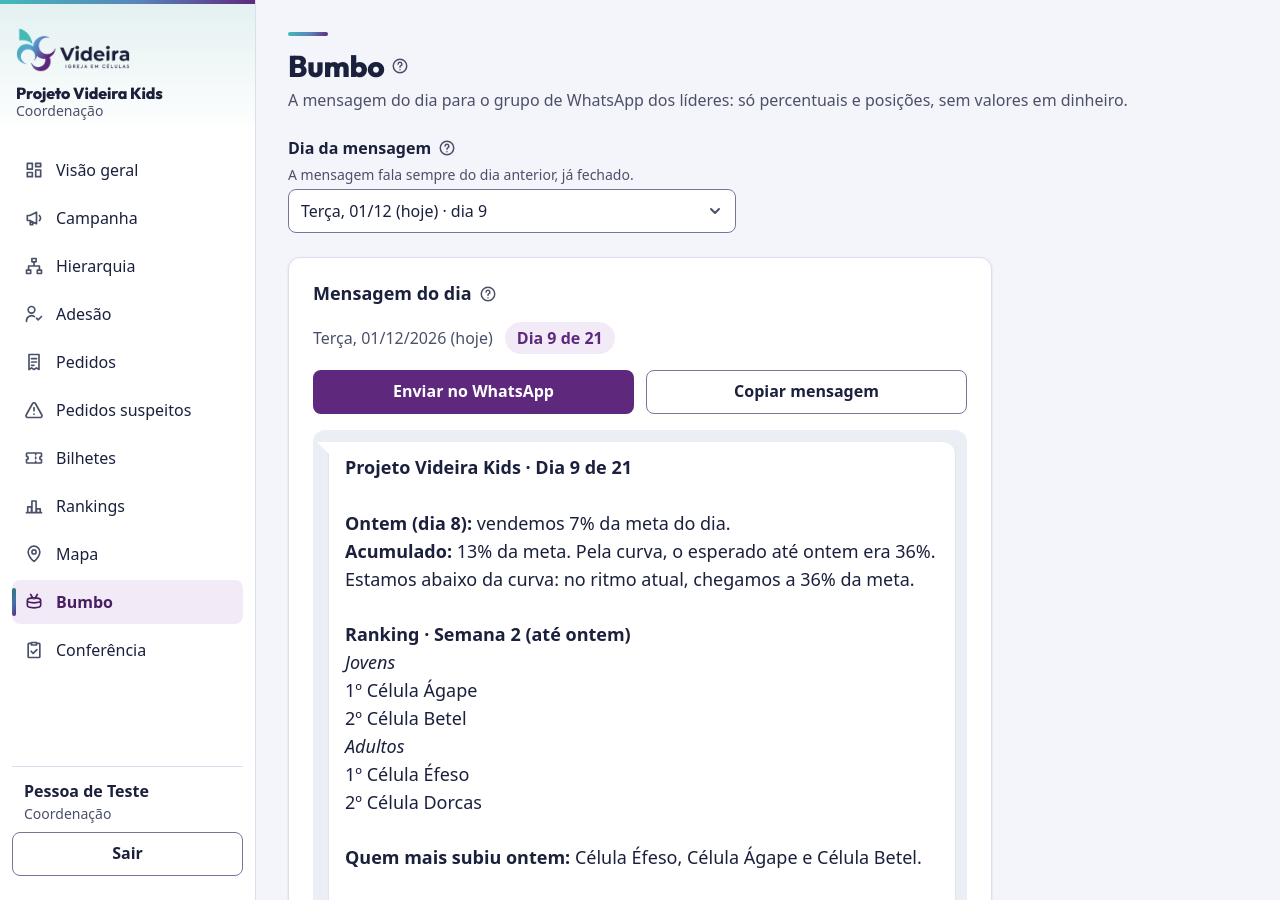
Test case: CA1: a mensagem do dia › falha ao trocar de dia: o erro da API fica no lugar da mensagem, o seletor continua e 'Tentar de novo' pede o mesmo dia
Select "Domingo, 29/11 · dia 7" in the dropdown labelled "Dia da mensagem": (512, 211) 288,189 -> 736,233
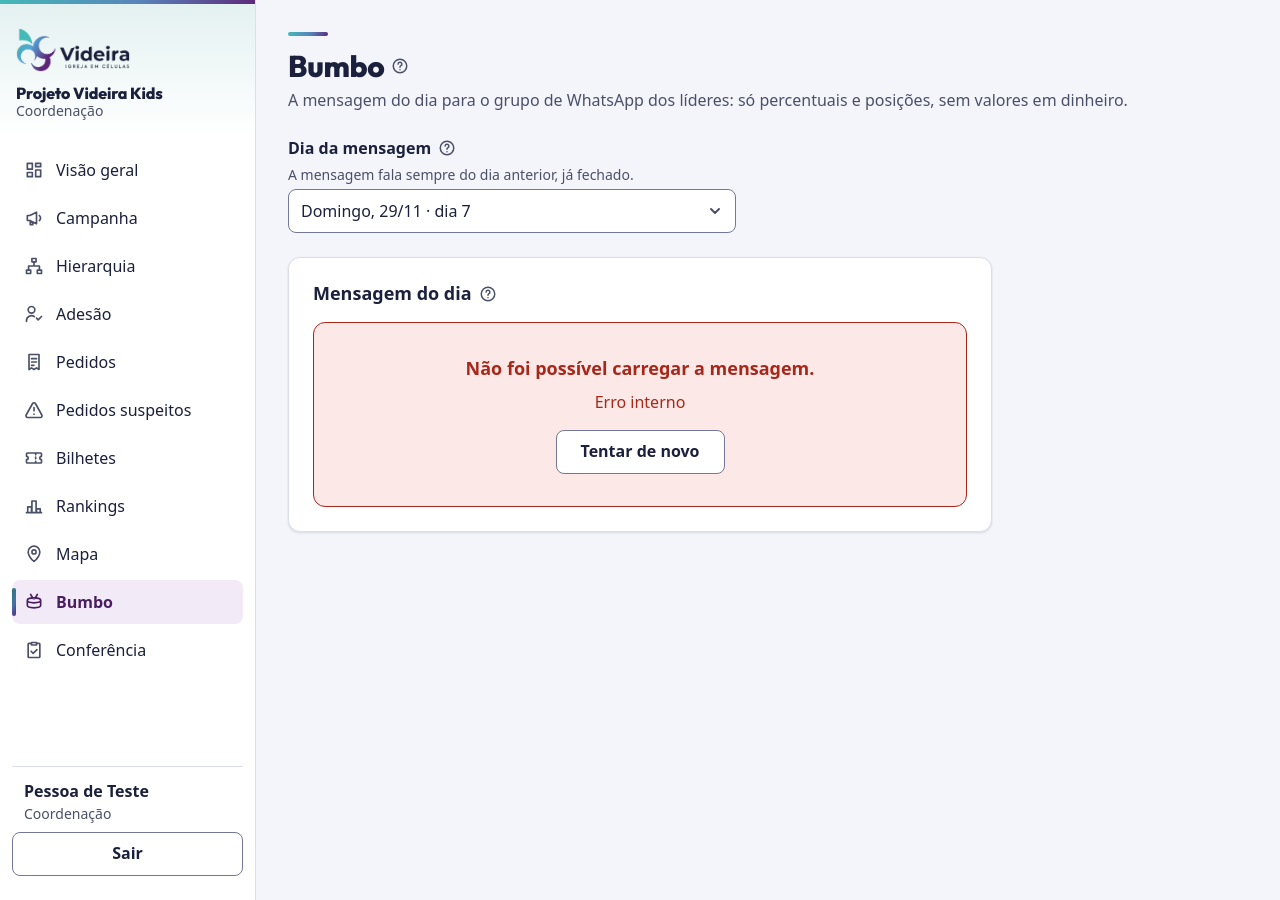
Check: the message shows "Não foi possível carregar a mensagem.", box 466,356 -> 814,380
Check: the message shows "Erro interno", box 595,391 -> 685,413
Check: the link "Enviar no WhatsApp" is gone
Click the button "Tentar de novo": (640, 452) 556,430 -> 724,474
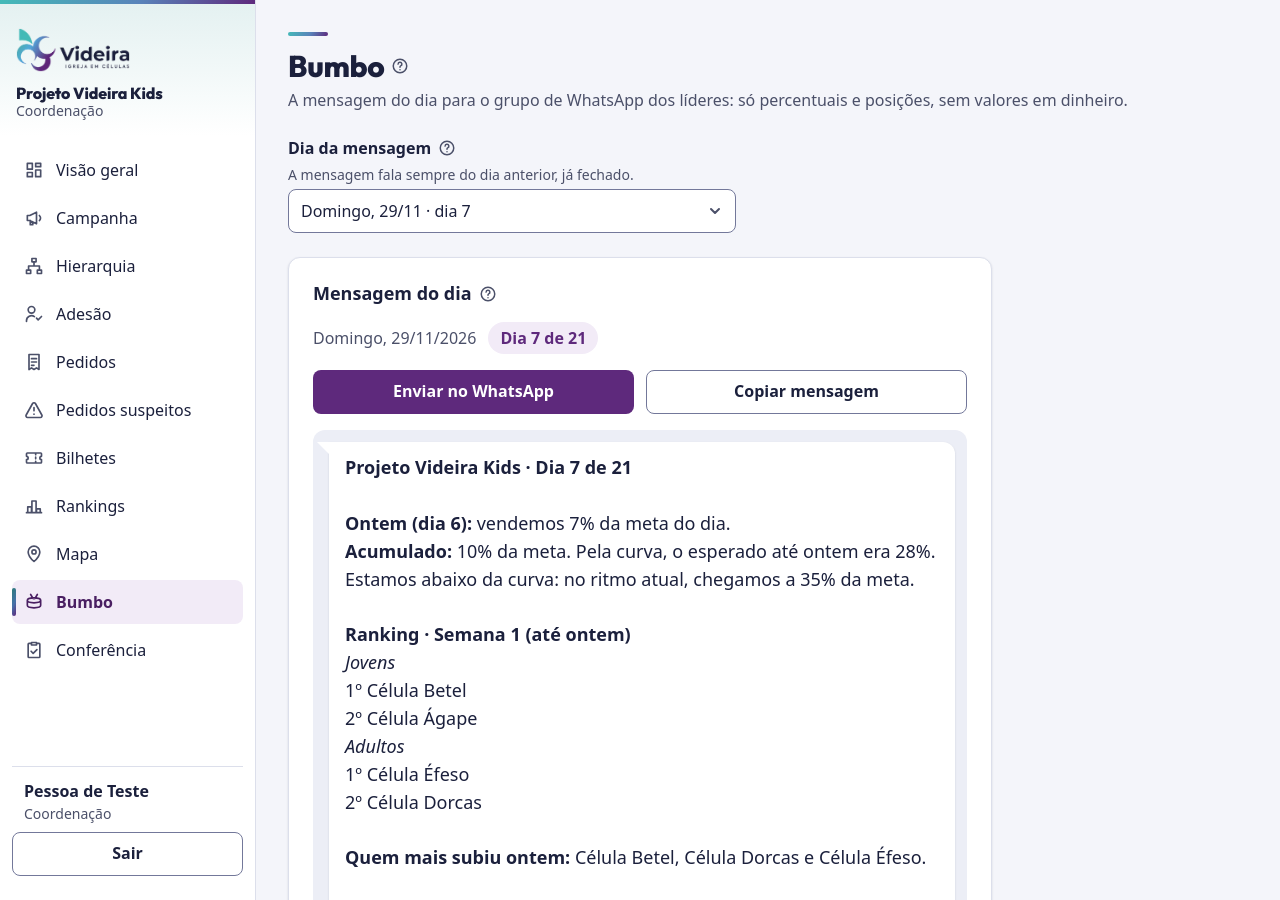
Check: the text "Domingo, 29/11/2026" is shown, box 313,326 -> 476,350
